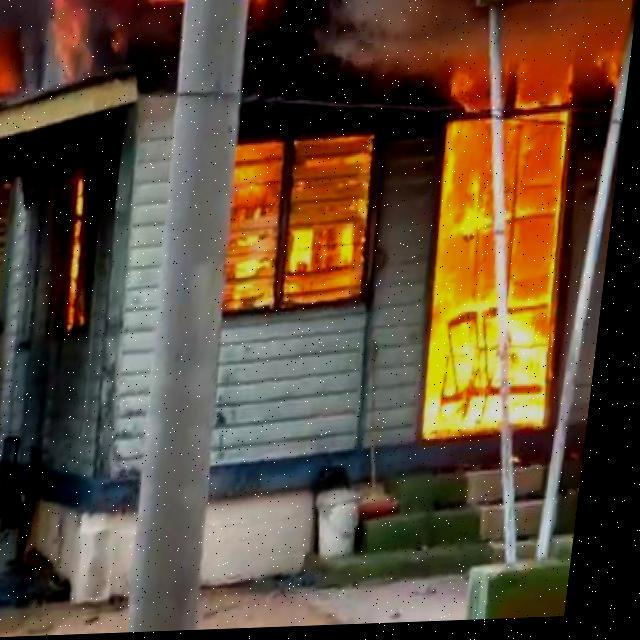Fire: (417, 36, 596, 447), (221, 132, 389, 312), (60, 178, 108, 332), (44, 0, 122, 80)
